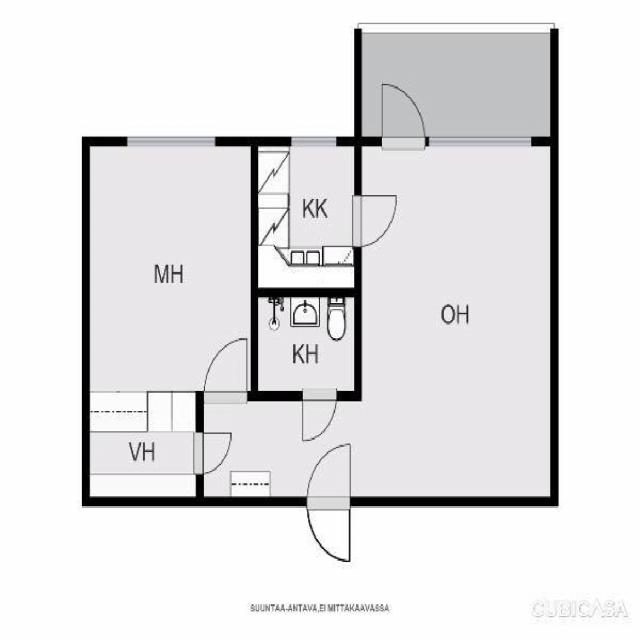door: (306, 496, 350, 564), (306, 438, 350, 505), (204, 335, 247, 401), (383, 81, 425, 146), (354, 194, 401, 247), (303, 391, 337, 447), (196, 432, 234, 473)
